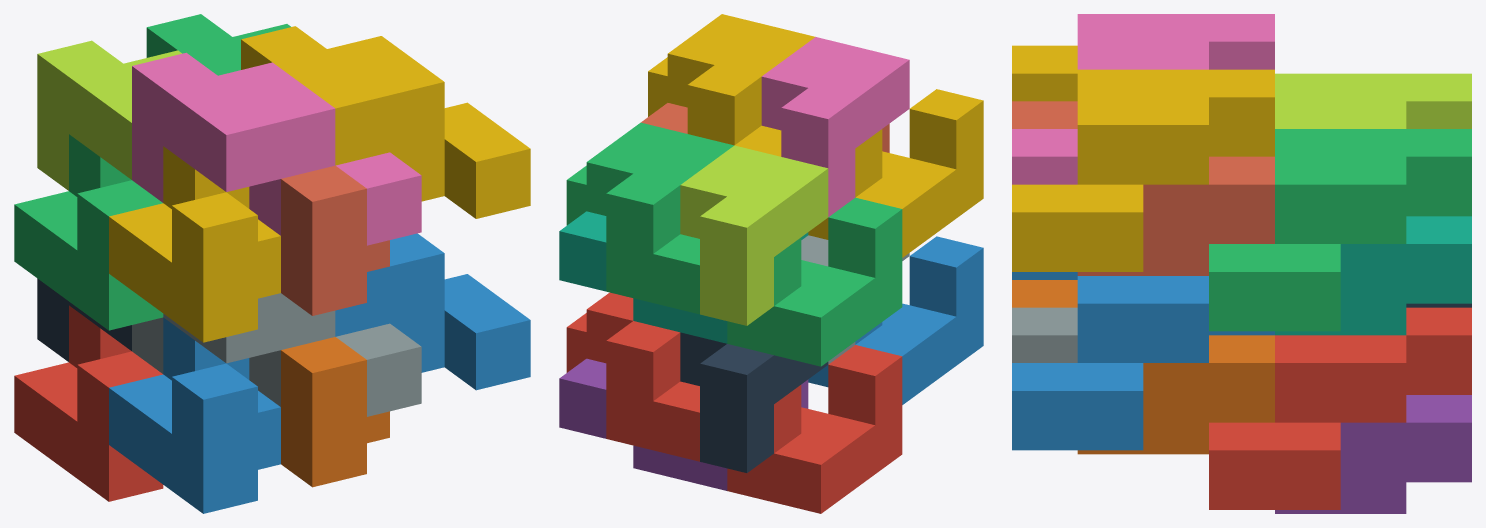
Rendered from tiling.obj.
3 renders of one model, left to right at view 1: azimuth 30°, elevation 25°; view 2: azimuth 150°, elevation 25°; view 3: azimuth 270°, elevation 25°, orthographic. The views are drawn at different scales.
Parts seen in each view (by area): view 1: copy_2_domain_4, copy_2_domain_8, copy_1_domain_2, copy_1_domain_4, copy_2_domain_6, copy_1_domain_3, copy_1_domain_1, copy_2_domain_2, copy_1_domain_6, copy_1_domain_8, copy_2_domain_3, copy_2_domain_7 (+1 smaller); view 2: copy_1_domain_1, copy_1_domain_3, copy_2_domain_3, copy_2_domain_4, copy_2_domain_7, copy_1_domain_4, copy_2_domain_8, copy_1_domain_2, copy_2_domain_1, copy_2_domain_5, copy_1_domain_5, copy_1_domain_7 (+2 smaller); view 3: copy_2_domain_8, copy_2_domain_7, copy_2_domain_5, copy_2_domain_6, copy_2_domain_4, copy_1_domain_6, copy_1_domain_8, copy_1_domain_7, copy_1_domain_5, copy_2_domain_3, copy_1_domain_4, copy_2_domain_2 (+1 smaller).
Boxes of the visible parts, <box> form: copy_2_domain_4: <box>132,52,421,245</box>; copy_2_domain_8: <box>241,26,530,218</box>; copy_1_domain_2: <box>109,317,280,513</box>; copy_1_domain_4: <box>109,146,280,342</box>; copy_2_domain_6: <box>335,233,530,390</box>; copy_1_domain_3: <box>14,134,163,330</box>; copy_1_domain_1: <box>14,305,163,501</box>; copy_2_domain_2: <box>132,293,421,416</box>; copy_1_domain_6: <box>281,337,389,487</box>; copy_1_domain_8: <box>281,165,389,315</box>; copy_2_domain_3: <box>37,40,181,190</box>; copy_2_domain_7: <box>146,14,290,75</box>; copy_1_domain_1: <box>653,345,902,513</box>; copy_1_domain_3: <box>653,197,902,366</box>; copy_2_domain_3: <box>680,145,828,325</box>; copy_2_domain_4: <box>761,37,909,216</box>; copy_2_domain_7: <box>566,122,733,302</box>; copy_1_domain_4: <box>735,89,983,257</box>; copy_2_domain_8: <box>648,14,815,145</box>; copy_1_domain_2: <box>808,236,983,404</box>; copy_2_domain_1: <box>680,332,828,472</box>; copy_2_domain_5: <box>566,292,680,450</box>; copy_1_domain_5: <box>559,358,808,490</box>; copy_1_domain_7: <box>559,211,808,343</box>; copy_2_domain_8: <box>1012,69,1274,271</box>; copy_2_domain_7: <box>1209,129,1471,331</box>; copy_2_domain_5: <box>1209,307,1471,509</box>; copy_2_domain_6: <box>1012,276,1274,450</box>; copy_2_domain_4: <box>1012,14,1274,184</box>; copy_1_domain_6: <box>1012,280,1274,454</box>; copy_1_domain_8: <box>1012,101,1274,275</box>; copy_1_domain_7: <box>1275,216,1471,335</box>; copy_1_domain_5: <box>1275,395,1471,513</box>; copy_2_domain_3: <box>1275,73,1471,128</box>; copy_1_domain_4: <box>1012,45,1077,101</box>; copy_2_domain_2: <box>1012,307,1077,362</box>.
Size of the model in its own units: 6 by 7 by 7.
